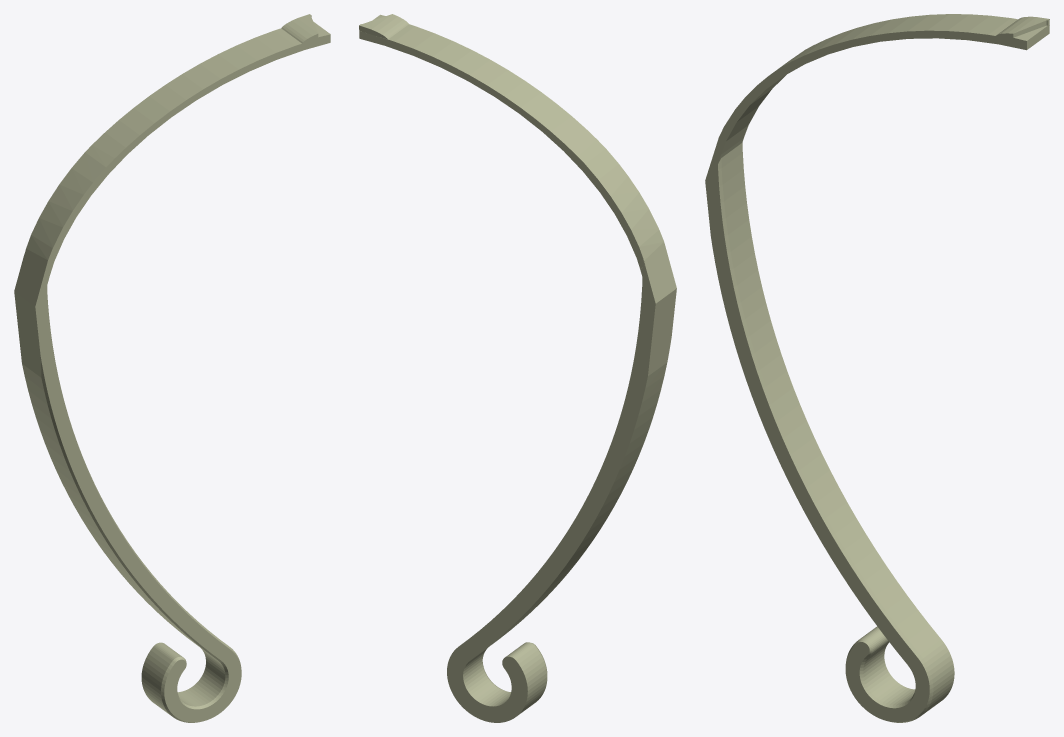
Rendered from tinker_1.obj.
The picture shows the model from 3 angles, left to right: view 1: azimuth 30°, elevation 25°; view 2: azimuth 150°, elevation 25°; view 3: azimuth 330°, elevation 25°; orthographic projection. The views are drawn at different scales.
Parts seen in each view (by area): view 1: obj_0; view 2: obj_0; view 3: obj_0.
Part boxes in pixels (x1,y1,x2,y2): obj_0: (14, 14, 330, 722); obj_0: (359, 14, 676, 722); obj_0: (705, 14, 1049, 722).
Size of the model in its own units: 80.66 by 173 by 10.
